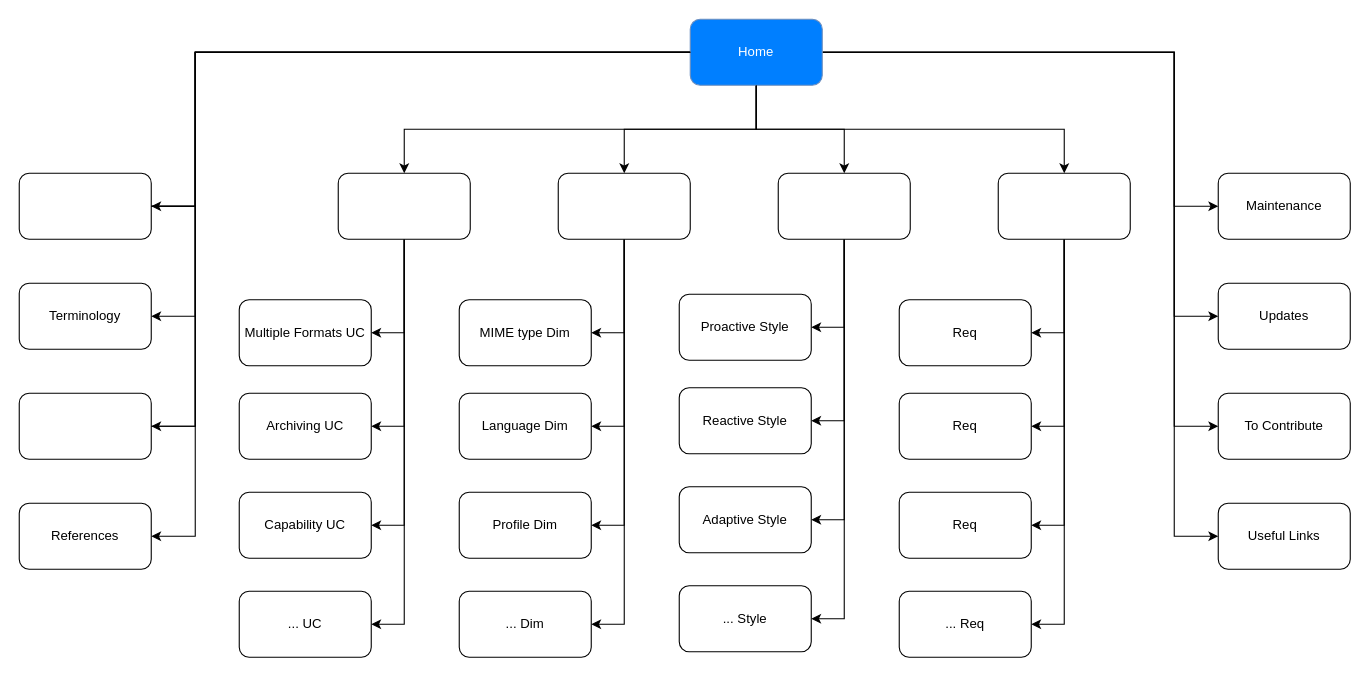
Image size: 1370x677. Some labels were removed from this diagram. The box of each missing label's shape, as (x1, y1, x2, y2) in pixels:
Abbreviations: (18, 392, 151, 459)
CN Dimensions: (557, 172, 690, 239)
CN Requirements: (997, 172, 1130, 239)
CN Styles: (777, 172, 910, 239)
CN Use Cases: (337, 172, 470, 239)
Methodology: (18, 172, 151, 239)
